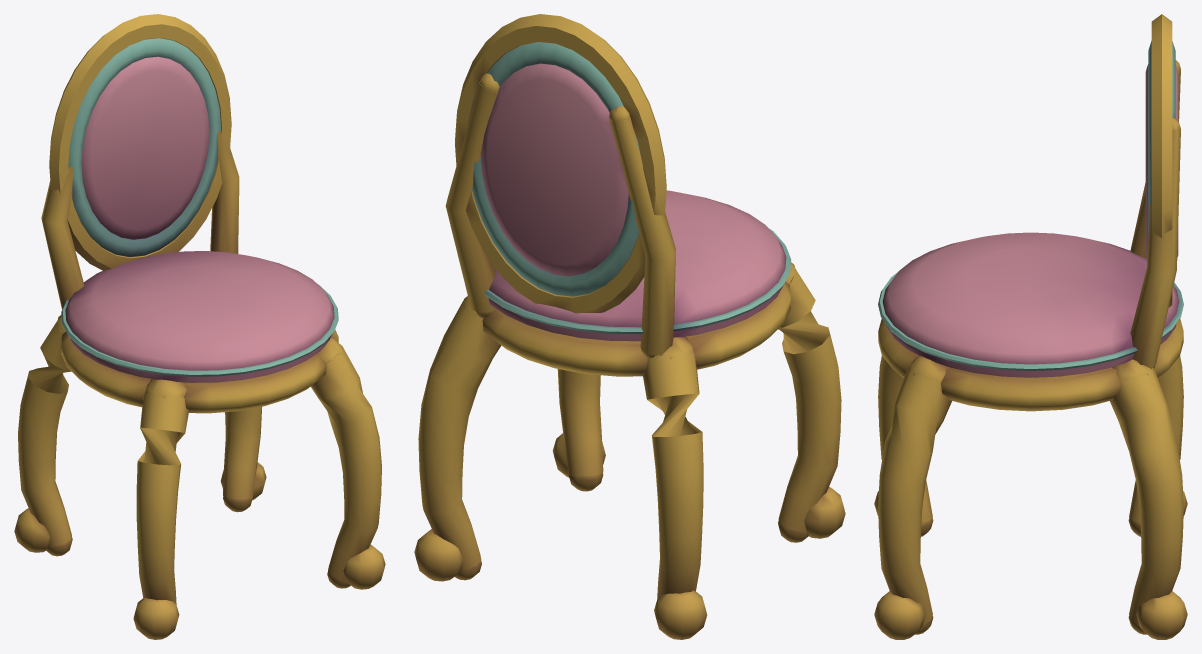
Rendered from chair_patisserie.glb.
3 views of the same model, side by side, from view 1: azimuth 30°, elevation 25°; view 2: azimuth 150°, elevation 25°; view 3: azimuth 270°, elevation 25° (orthographic). The views are drawn at different scales.
Parts seen in each view (by area): view 1: chair_patisserie; view 2: chair_patisserie; view 3: chair_patisserie.
Boxes of the visible parts, x1,y1,x2,y2 form: chair_patisserie: (14,14,385,639); chair_patisserie: (414,14,845,639); chair_patisserie: (874,14,1187,639).
Size of the model in its own units: 0.5699 by 1.14 by 0.5745.
